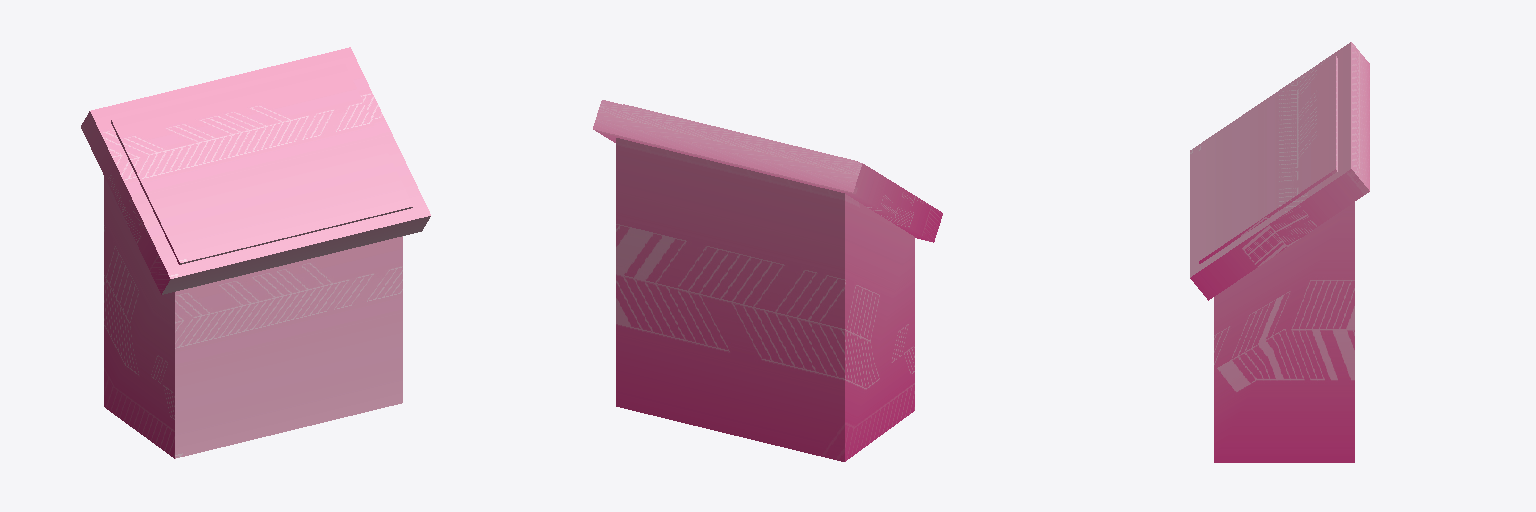
The picture shows the model from 3 angles: view 1: azimuth 30°, elevation 25°; view 2: azimuth 150°, elevation 25°; view 3: azimuth 270°, elevation 25°; orthographic projection.
Visible parts, largest first — view 1: CU; view 2: CU; view 3: CU.
Boxes of the visible parts, <box> form: CU: <box>81,47,430,458</box>; CU: <box>593,100,942,461</box>; CU: <box>1190,42,1369,462</box>.
Bounding box in the file's own units: 1.12 × 1.23 × 0.6692.
Materials: 1 (1 with a texture image).